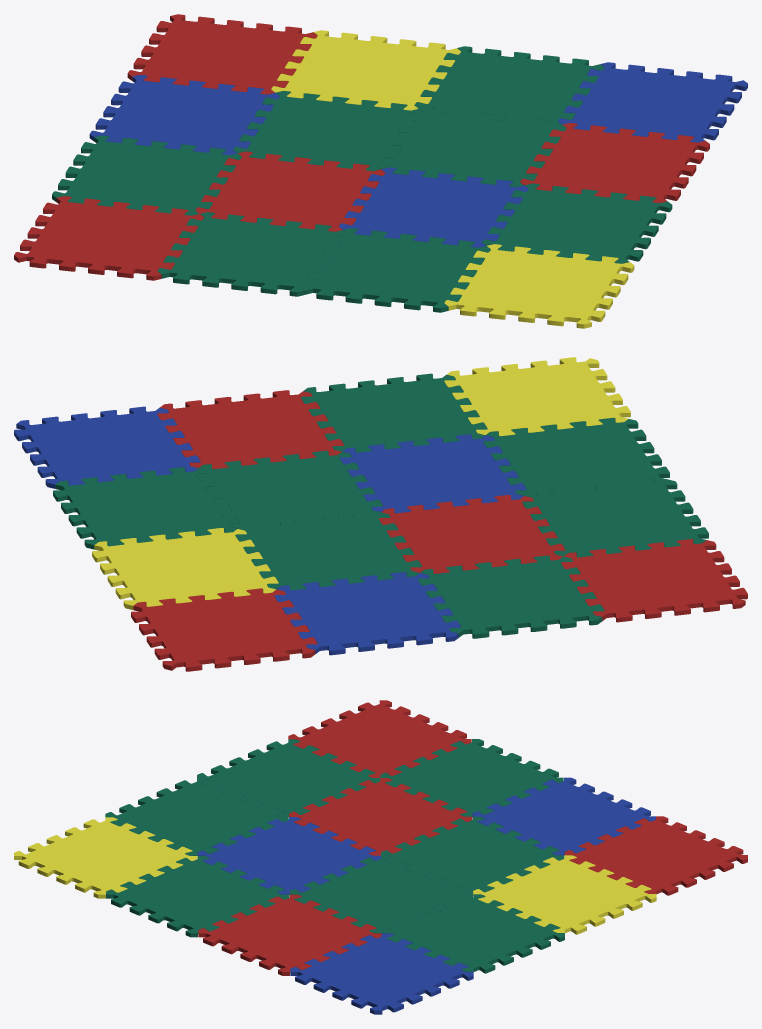
File: Carpet puzzle FBX.FBX
3 renders of one model, top to bottom at view 1: azimuth 30°, elevation 25°; view 2: azimuth 150°, elevation 25°; view 3: azimuth 270°, elevation 25°, orthographic. The views are drawn at different scales.
Parts seen in each view (by area): view 1: puzzle; view 2: puzzle; view 3: puzzle.
Part boxes in pixels (x1,y1,x2,y2): puzzle: (14,14,747,328); puzzle: (14,357,747,671); puzzle: (14,700,747,1014).
Bounding box in the file's own units: 172 × 0.99 × 172.
